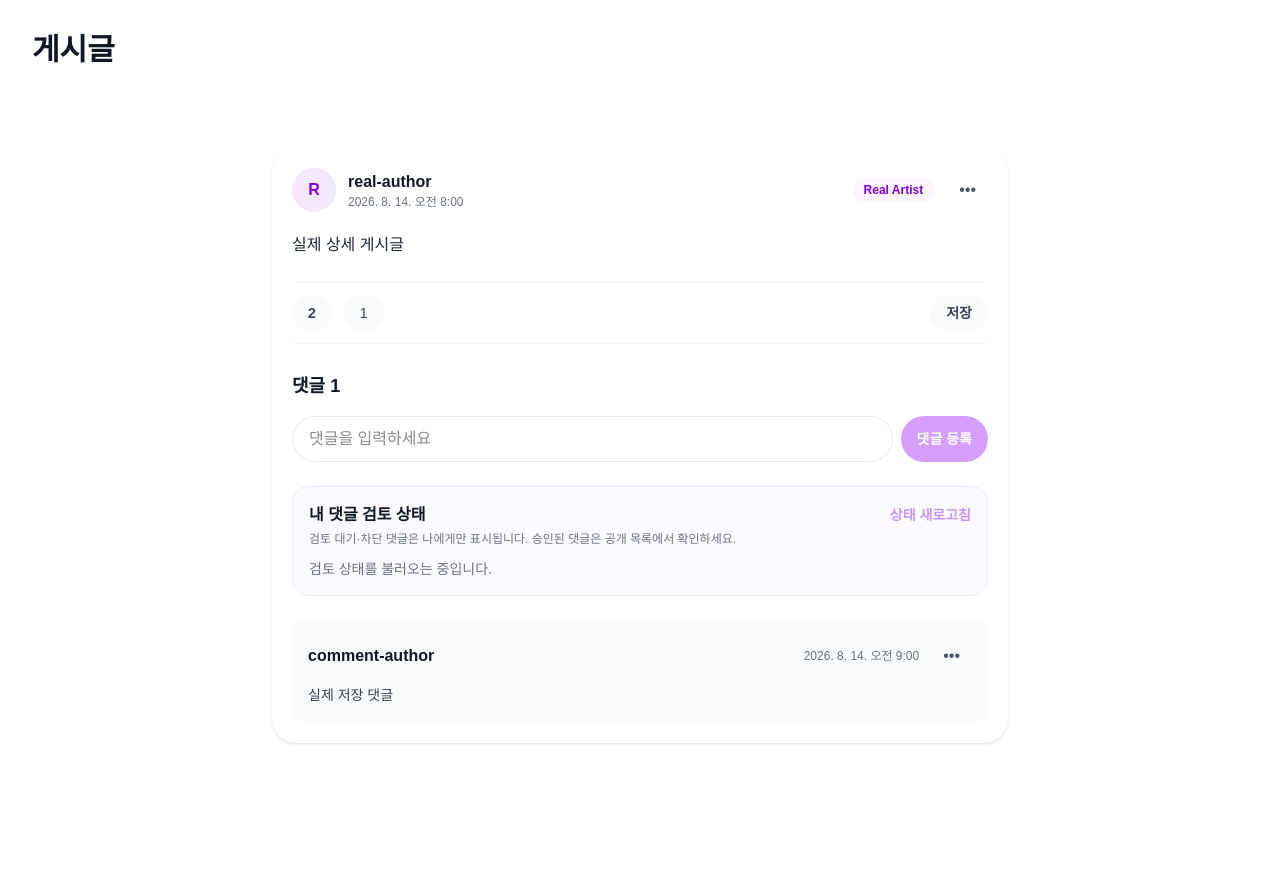
Test: PostDetailPage › prefills post editing and cancels without a write
Check: the text "실제 상세 게시글" is shown, box [292,236,404,253]
Click the heading named "게시글 작업" at (968, 190), box [959,181,976,198]
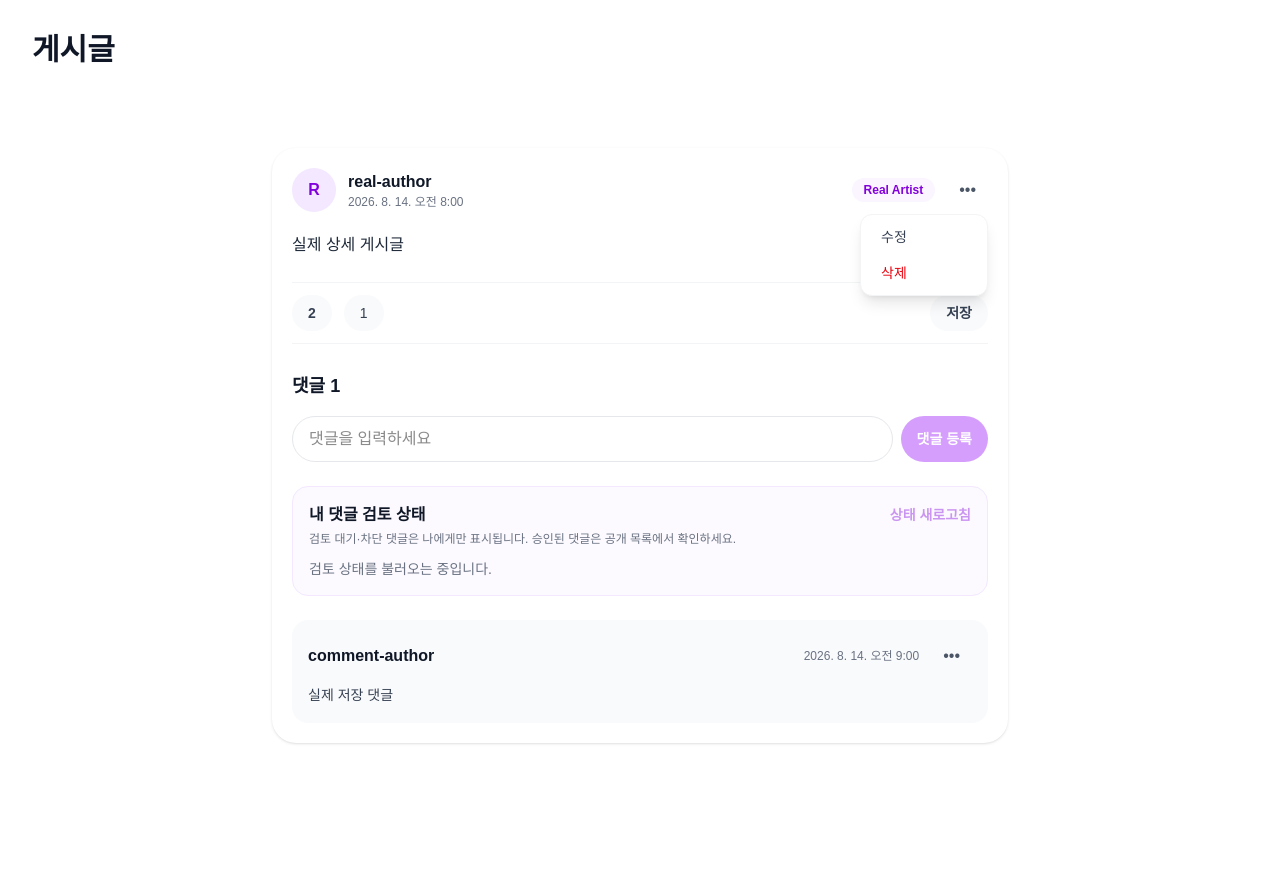
Click the button "수정" at (924, 237), box [865,219,983,255]
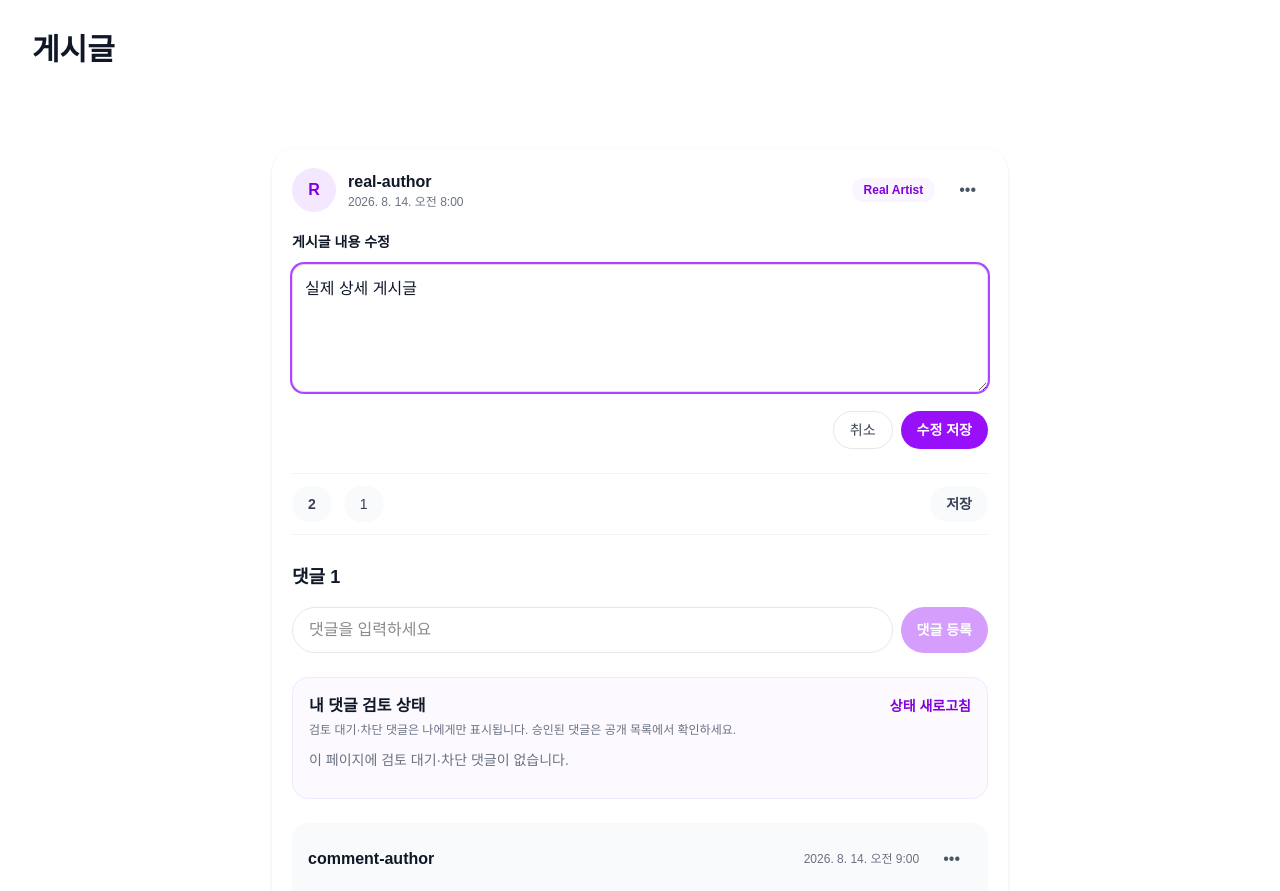
Check: the text box labelled "게시글 내용 수정" holds "실제 상세 게시글"
Replace the text in the text box labelled "게시글 내용 수정" with "버릴 수정" at (640, 328), box [292,264,988,392]
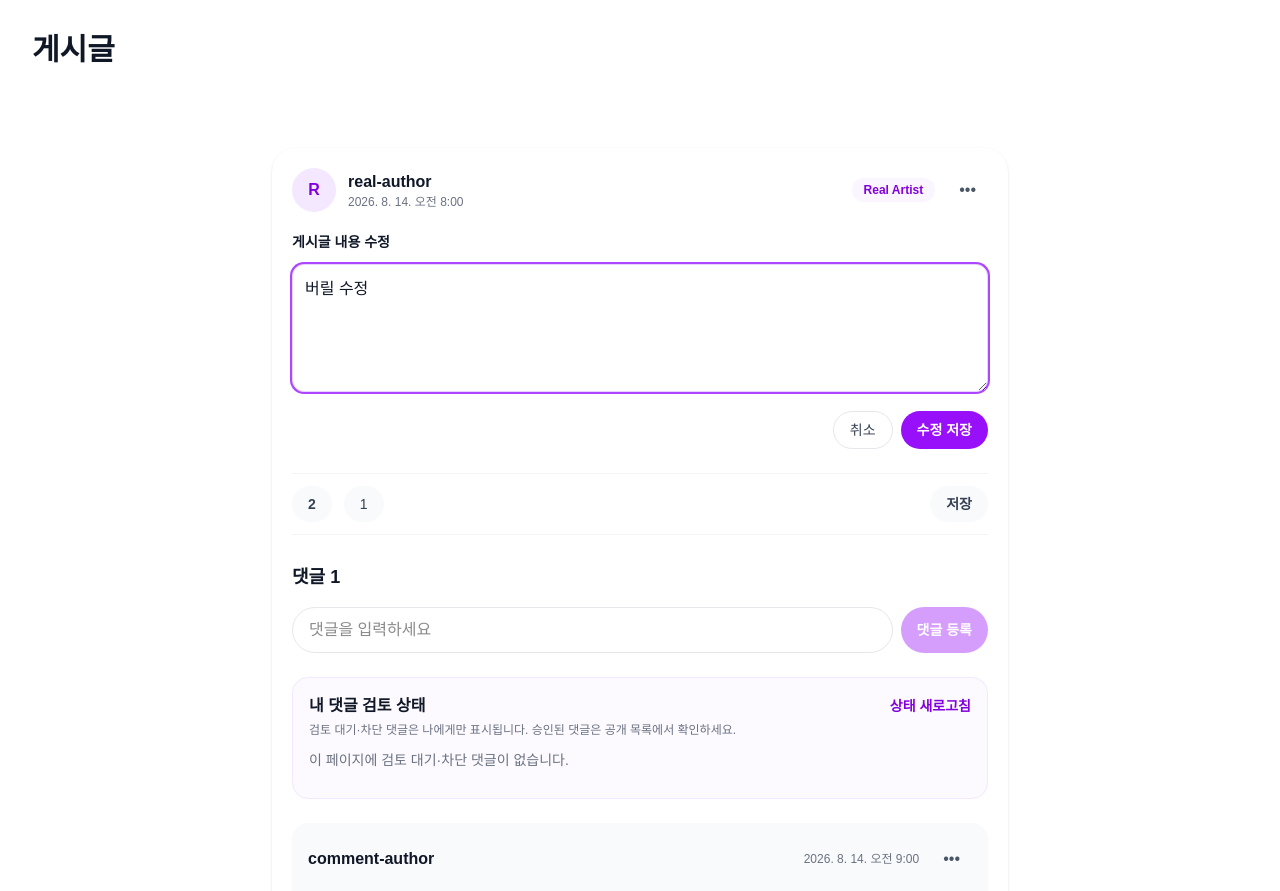
Click the button "취소" at (863, 430), box [833,411,893,449]
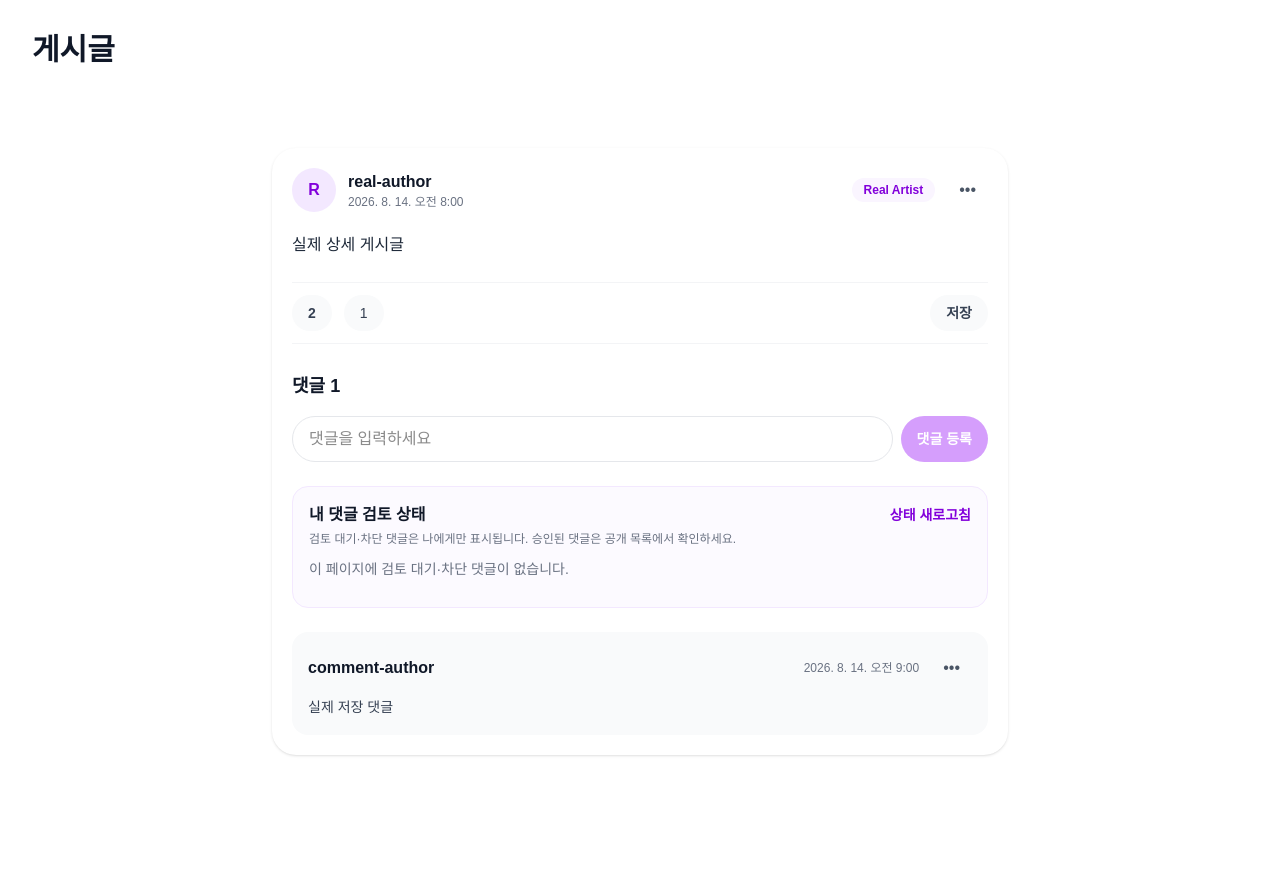
Check: the text "실제 상세 게시글" is shown, box [292,236,404,253]
